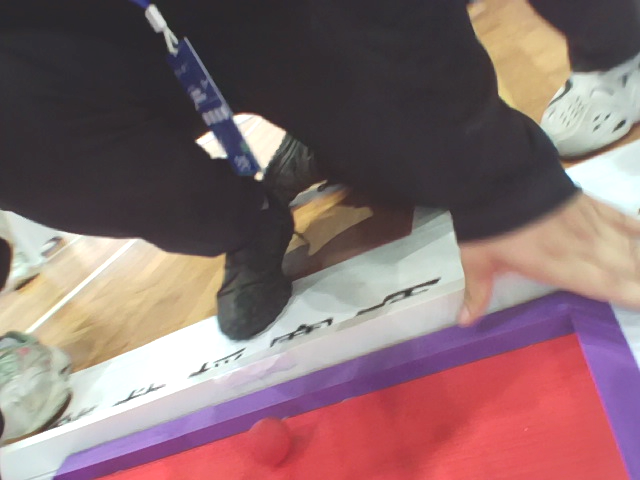kuang: (42, 283, 640, 480)
